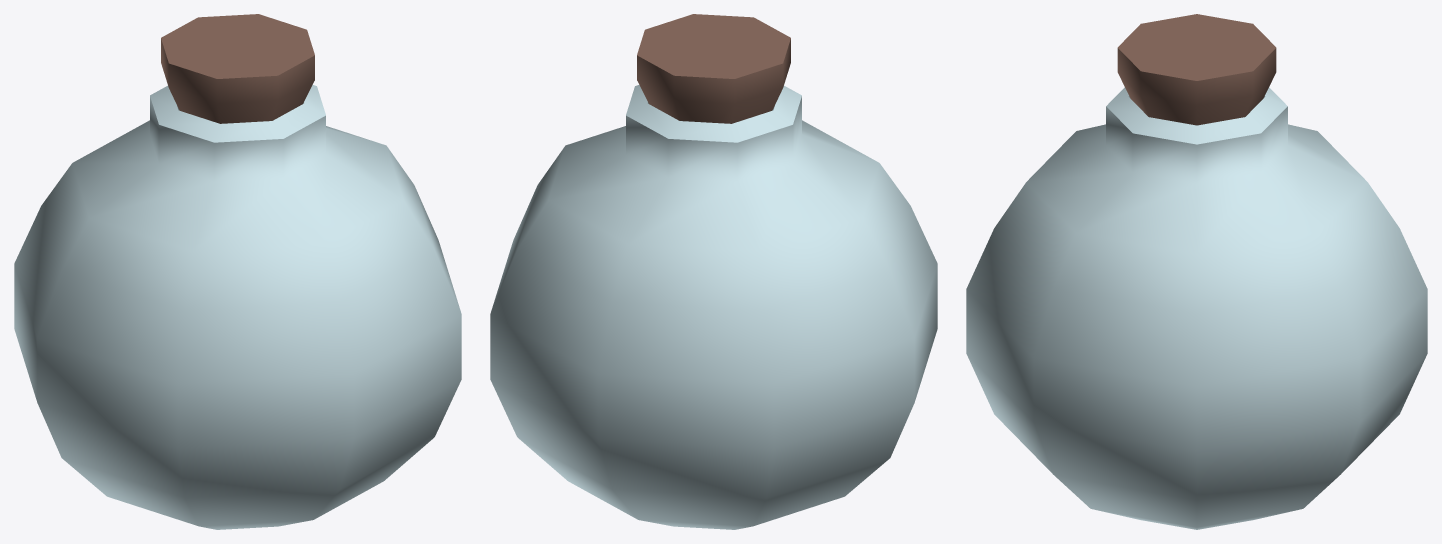
File: magic_flask.glb
The picture shows the model from 3 angles, left to right: view 1: azimuth 30°, elevation 25°; view 2: azimuth 150°, elevation 25°; view 3: azimuth 270°, elevation 25°; orthographic projection.
Visible parts, largest first — view 1: polySurface3; view 2: polySurface3; view 3: polySurface3.
Boxes of the visible parts, x1,y1,x2,y2 form: polySurface3: (14, 14, 461, 529); polySurface3: (490, 14, 937, 529); polySurface3: (966, 14, 1427, 529).
Size of the model in its own units: 0.0197 by 0.0217 by 0.0197.
